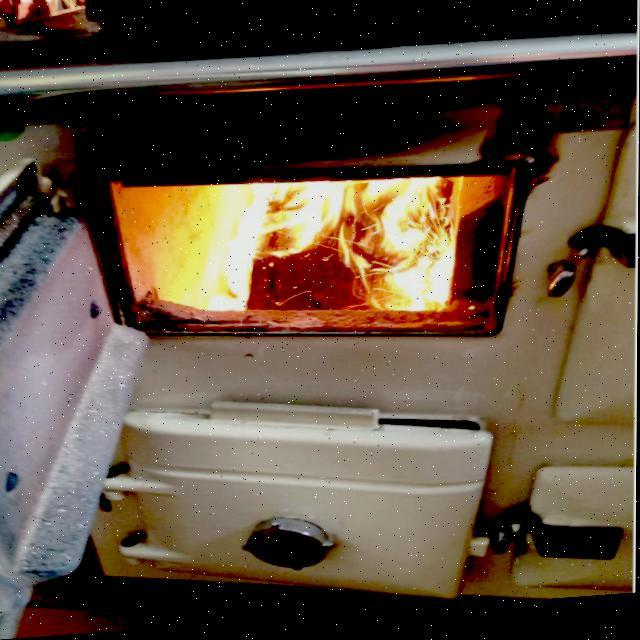Fire: (134, 161, 500, 327)
